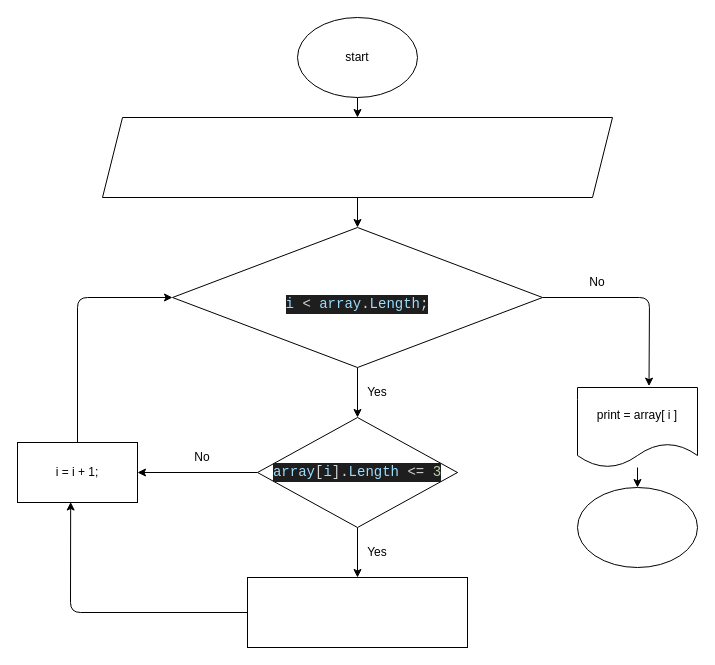
This 715x665 diagram has some shape labels left out. The centre of each missing label's shape, as x and y in pixels:
array[ i ] =array[ i ].Length: point 357,612
end: point 637,527
string [] array = { "Встреча" , "4ercv" , "345gred" , "fdg" , "45" }; int i = 0;: point 357,157
